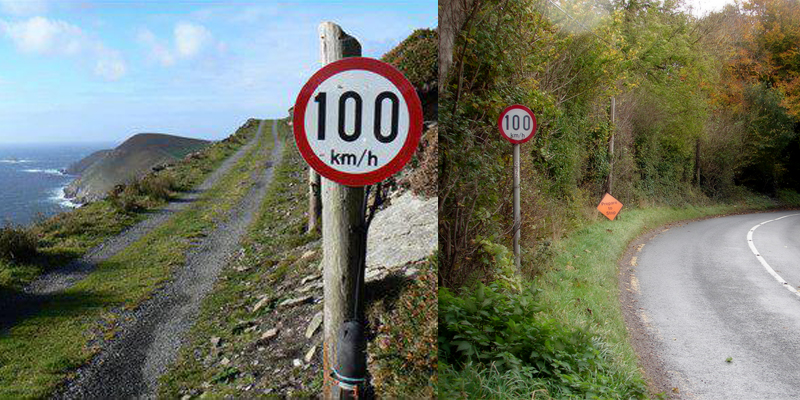Speed_limit_100km: (291, 57, 424, 188), (498, 104, 536, 146)
